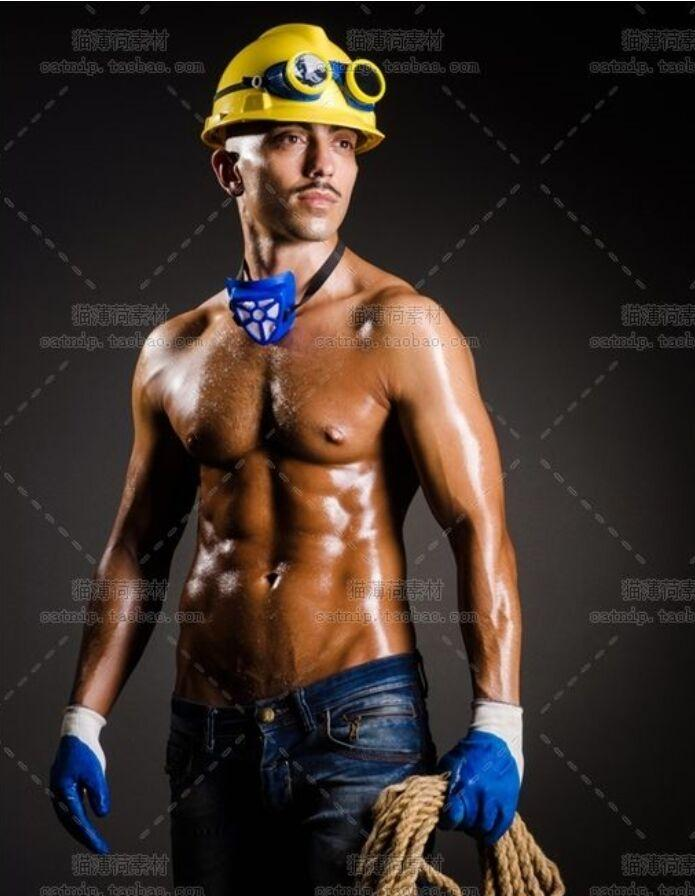helmet: (202, 20, 390, 146)
no_wear: (129, 295, 453, 684)
